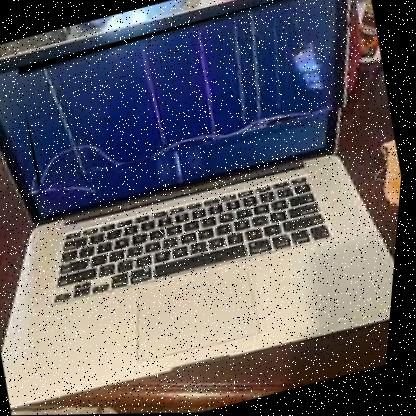lines: (10, 0, 371, 188)
